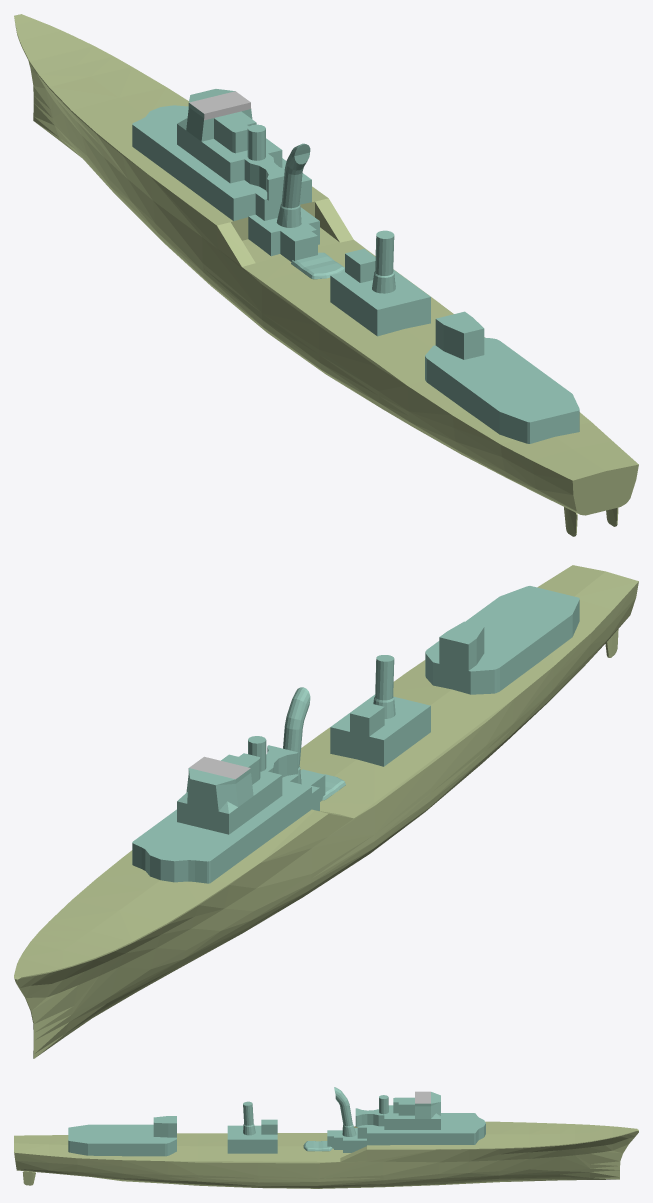
File: PBSD110_armor.glb
3 views of the same model, one above another, from view 1: azimuth 30°, elevation 25°; view 2: azimuth 150°, elevation 25°; view 3: azimuth 270°, elevation 25° (orthographic). The views are drawn at different scales.
Parts seen in each view (by area): view 1: armor; view 2: armor; view 3: armor.
Part boxes in pixels (x1,y1,x2,y2): armor: (14, 14, 638, 536); armor: (14, 565, 638, 1058); armor: (14, 1087, 638, 1188).
Bounding box in the file's own units: 22.1 × 32.93 × 200.
